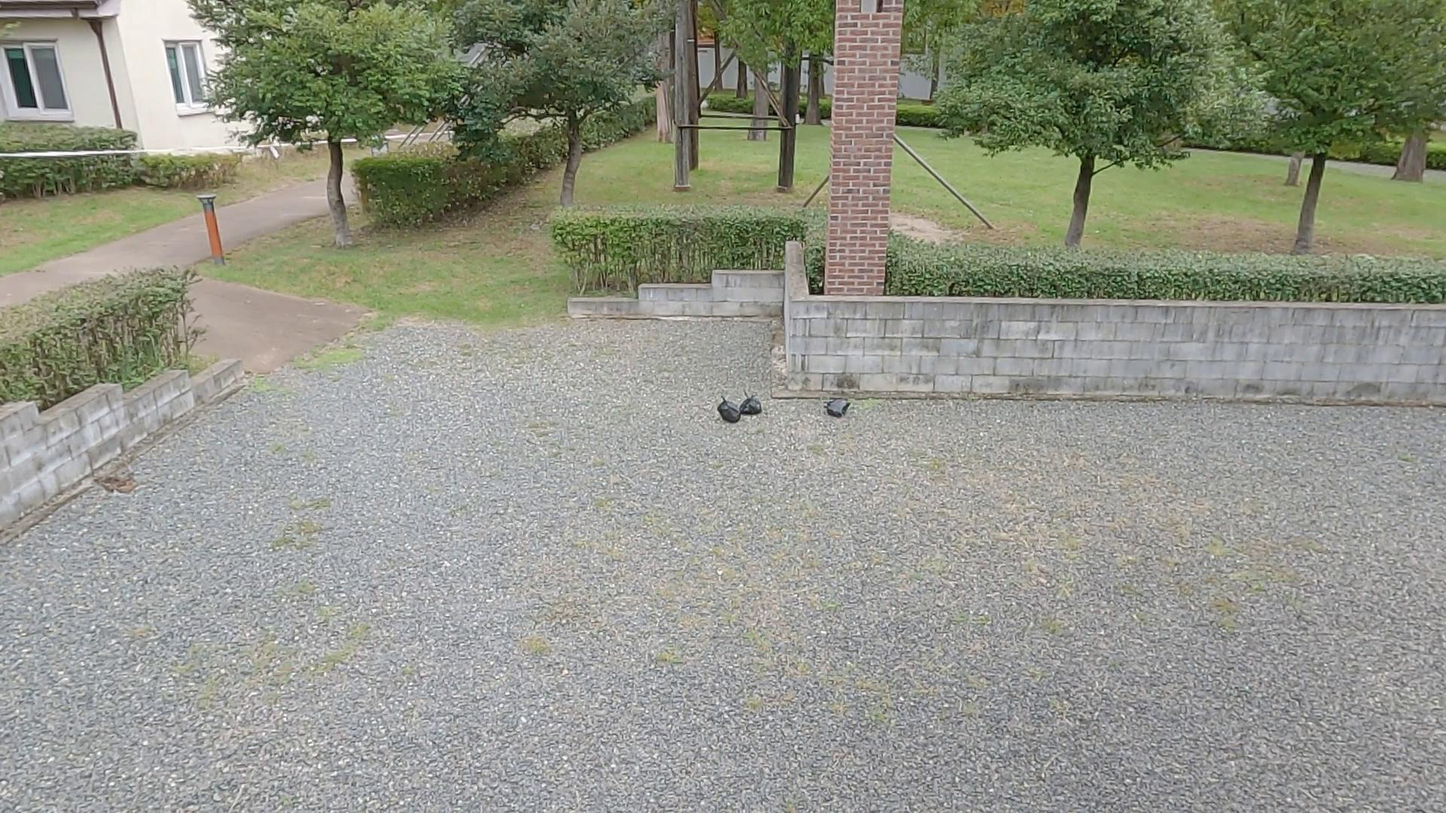trash: (823, 395, 850, 420), (717, 396, 741, 424), (740, 389, 762, 416)
